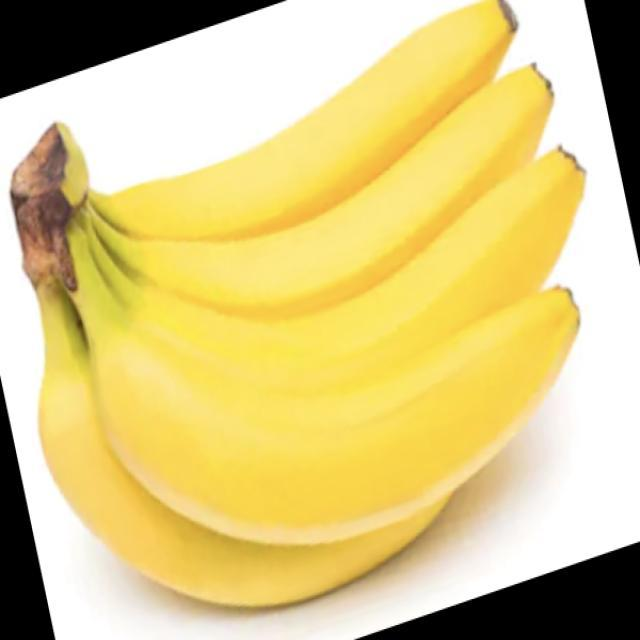Banana: (8, 0, 586, 609)
